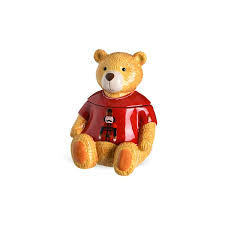teddy: (50, 45, 172, 182)
